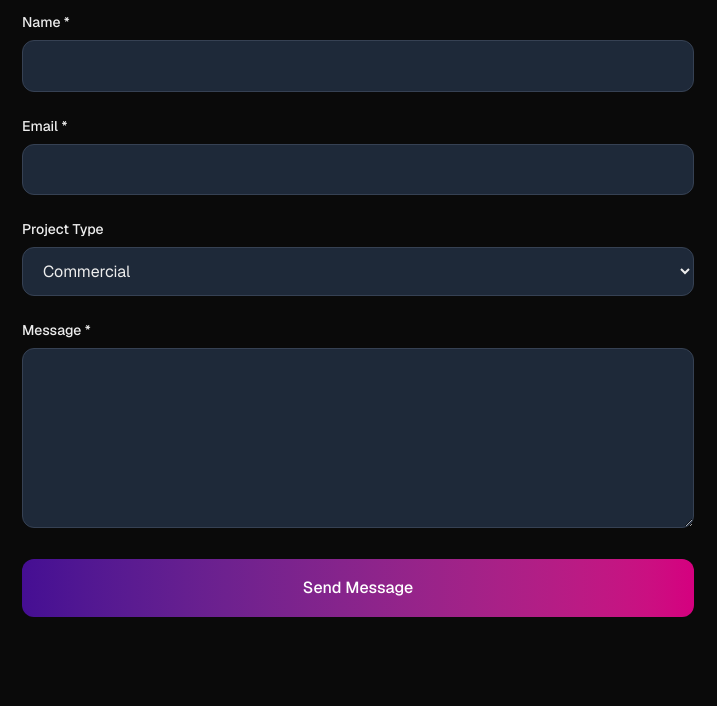
Test: ContactForm › validates message min length
The width and height of the screenshot is (717, 706).
Type "Short" into the text box labelled "Message *" at {"x": 358, "y": 438}, box [22,348,694,528]
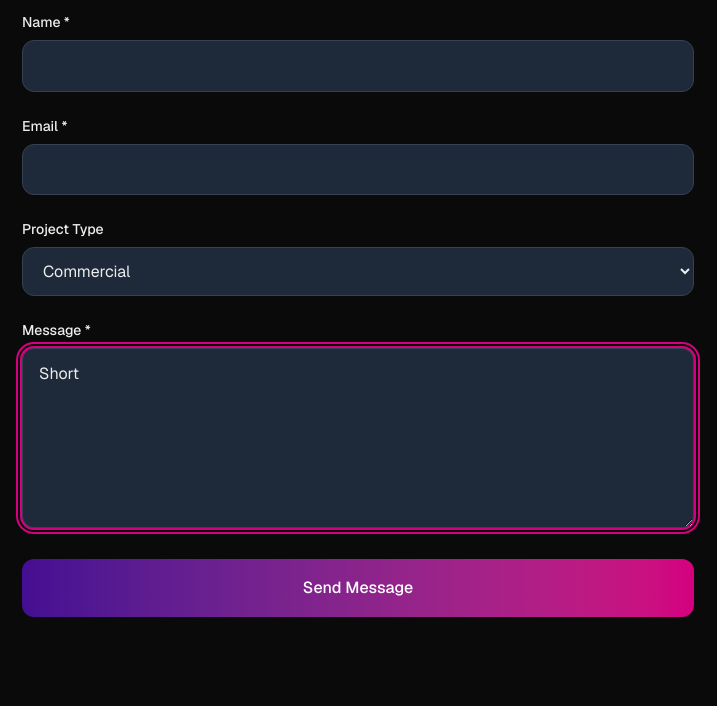
Click the button "Send Message" at {"x": 358, "y": 588}, box [22,559,694,617]
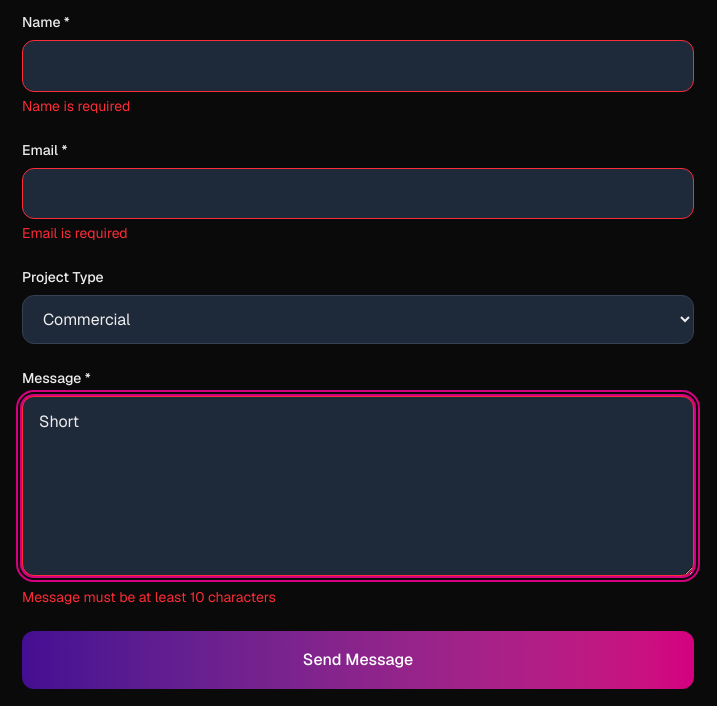
Expected: the text "Message must be at least 10 characters" is shown, [22,588,276,606]
